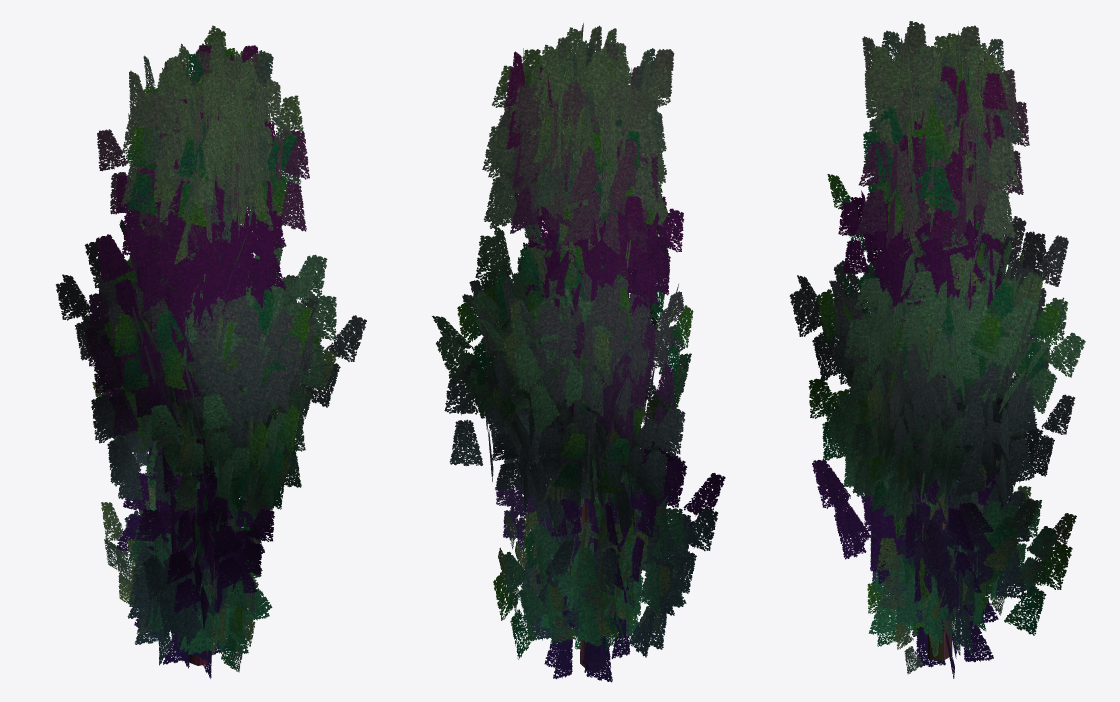
File: nat_cypress_a_LOD1.glb
3 views of the same model, side by side, from view 1: azimuth 30°, elevation 25°; view 2: azimuth 150°, elevation 25°; view 3: azimuth 270°, elevation 25° (orthographic). The views are drawn at different scales.
Parts seen in each view (by area): view 1: nat_cypress_a_LOD1; view 2: nat_cypress_a_LOD1; view 3: nat_cypress_a_LOD1.
Part boxes in pixels (left/top/right/bottom): nat_cypress_a_LOD1: left=56, top=25, right=366, bottom=678; nat_cypress_a_LOD1: left=432, top=23, right=725, bottom=682; nat_cypress_a_LOD1: left=789, top=21, right=1085, bottom=678.
Size of the model in its own units: 5.06 by 9.77 by 4.58.
Materials: 2 (2 with a texture image).
